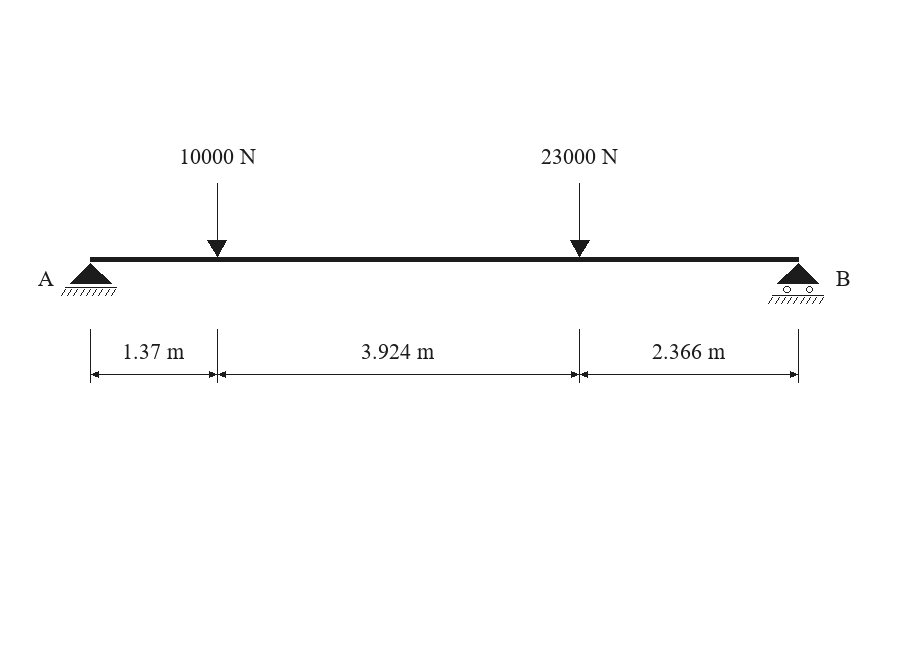pin_support: (61, 263, 117, 296)
point_load: (207, 183, 227, 257), (570, 183, 590, 257)
roller_support: (768, 263, 824, 304)
